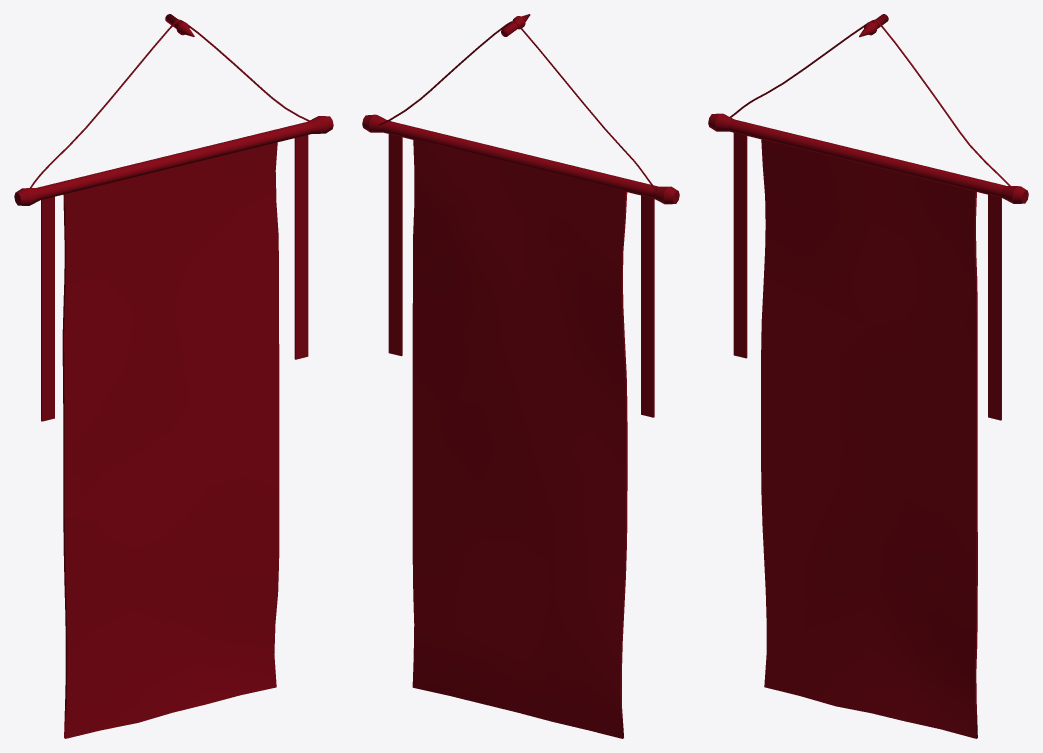
File: banner_big_final.fbx
3 renders of one model, left to right at view 1: azimuth 30°, elevation 25°; view 2: azimuth 150°, elevation 25°; view 3: azimuth 330°, elevation 25°, orthographic.
Visible parts, largest first — view 1: banner_big; view 2: banner_big; view 3: banner_big.
Part boxes in pixels (x1,y1,x2,y2): banner_big: [14, 14, 333, 738]; banner_big: [362, 14, 679, 738]; banner_big: [708, 14, 1028, 738].
Bounding box in the file's own units: 341 × 725 × 47.49.
